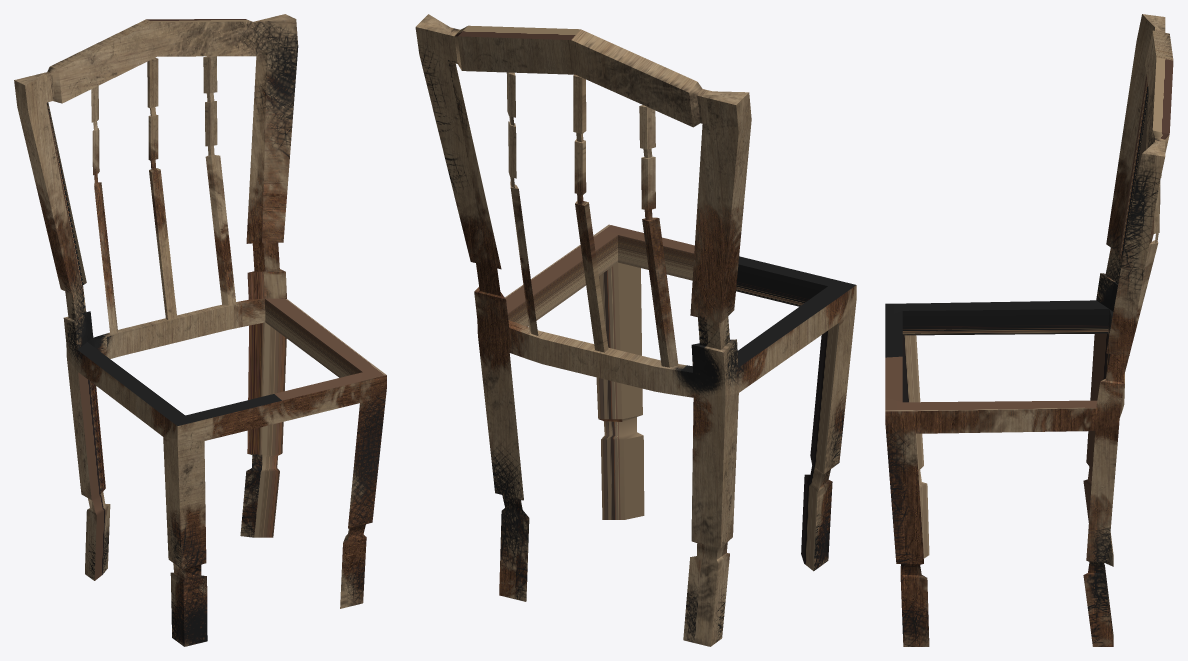
File: Silla_Prop_escenario01.fbx
3 views of the same model, side by side, from view 1: azimuth 30°, elevation 25°; view 2: azimuth 150°, elevation 25°; view 3: azimuth 270°, elevation 25° (orthographic). The views are drawn at different scales.
Visible parts, largest first — view 1: pCube3; view 2: pCube3; view 3: pCube3.
Boxes of the visible parts, x1,y1,x2,y2 form: pCube3: (14,14,386,646); pCube3: (415,14,856,646); pCube3: (885,14,1173,646).
Bounding box in the file's own units: 9.54 × 17.35 × 8.32.
Materials: 1 (1 with a texture image).
